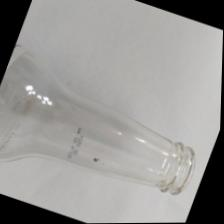glass: (0, 40, 218, 224)
